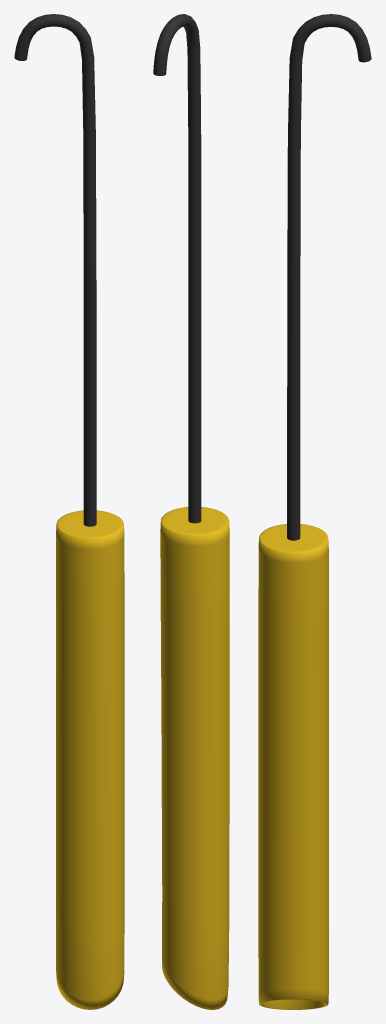
Rendered from Chime_S.fbx.
The picture shows the model from 3 angles, left to right: view 1: azimuth 90°, elevation 25°; view 2: azimuth 150°, elevation 25°; view 3: azimuth 270°, elevation 25°; orthographic projection. The views are drawn at different scales.
Visible parts, largest first — view 1: Cylinder.002, Vert.002; view 2: Cylinder.002, Vert.002; view 3: Cylinder.002, Vert.002.
Part boxes in pixels (<box>): Cylinder.002: <box>56,510,124,1009</box>; Vert.002: <box>14,14,96,526</box>; Cylinder.002: <box>160,507,229,1009</box>; Vert.002: <box>153,14,201,523</box>; Cylinder.002: <box>258,524,328,1009</box>; Vert.002: <box>287,14,371,540</box>.
Size of the model in its own units: 50.88 by 806 by 81.87.
